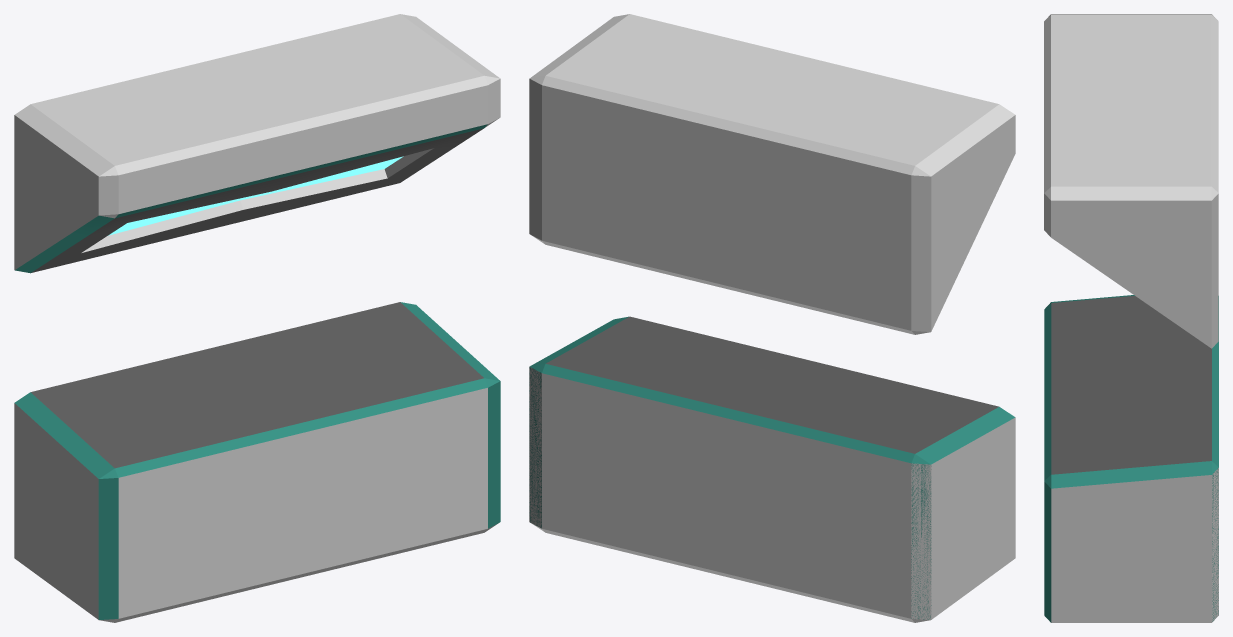
File: counter.fbx
3 views of the same model, side by side, from view 1: azimuth 30°, elevation 25°; view 2: azimuth 150°, elevation 25°; view 3: azimuth 270°, elevation 25° (orthographic). The views are drawn at different scales.
Visible parts, largest first — view 1: counter, light; view 2: light, counter; view 3: counter, light.
Part boxes in pixels (x1,y1,x2,y2): counter: (14, 302, 500, 622); light: (14, 14, 500, 273); light: (529, 14, 1015, 334); counter: (529, 316, 1015, 622); counter: (1044, 295, 1218, 622); light: (1044, 14, 1218, 348).
Bounding box in the file's own units: 448 × 488 × 177.
Materials: 4 (1 with a texture image).
